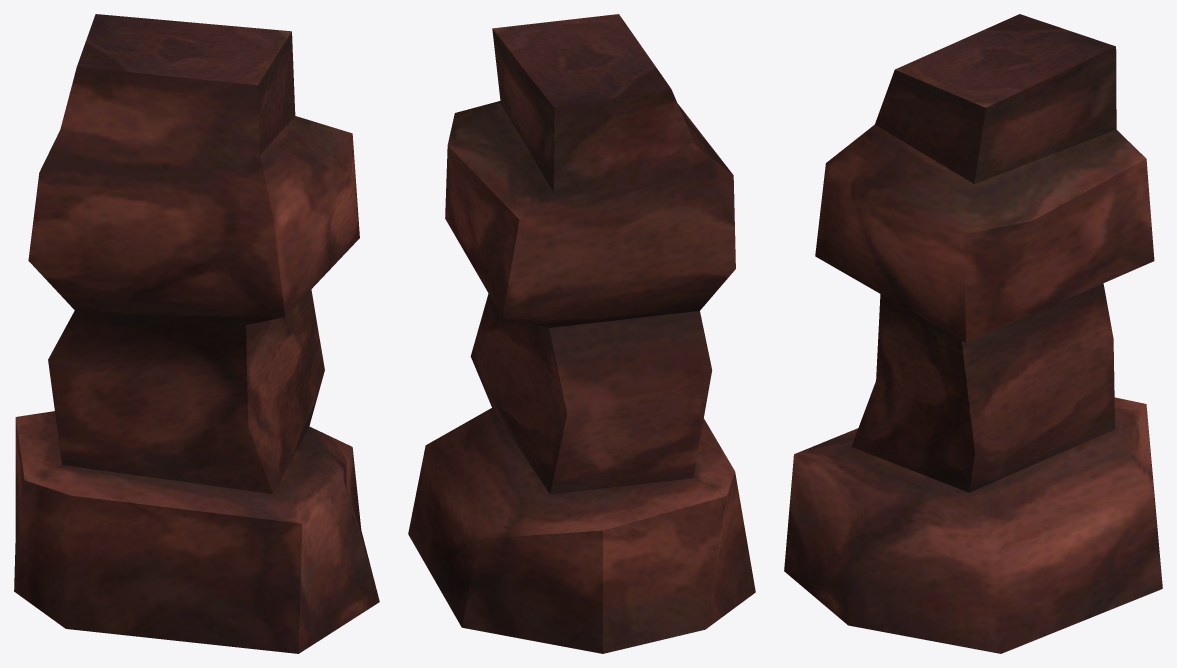
The model's file is lava_half_convex_05.fbx.
3 renders of one model, left to right at view 1: azimuth 30°, elevation 25°; view 2: azimuth 150°, elevation 25°; view 3: azimuth 270°, elevation 25°, orthographic. The views are drawn at different scales.
Parts seen in each view (by area): view 1: lava_tileset/lava_wall01; view 2: lava_tileset/lava_wall01; view 3: lava_tileset/lava_wall01.
Boxes of the visible parts, left/top/right/bottom form: lava_tileset/lava_wall01: left=14, top=14, right=379, bottom=653; lava_tileset/lava_wall01: left=408, top=14, right=755, bottom=653; lava_tileset/lava_wall01: left=784, top=14, right=1162, bottom=653.
Size of the model in its own units: 1.81 by 2.73 by 1.84.
